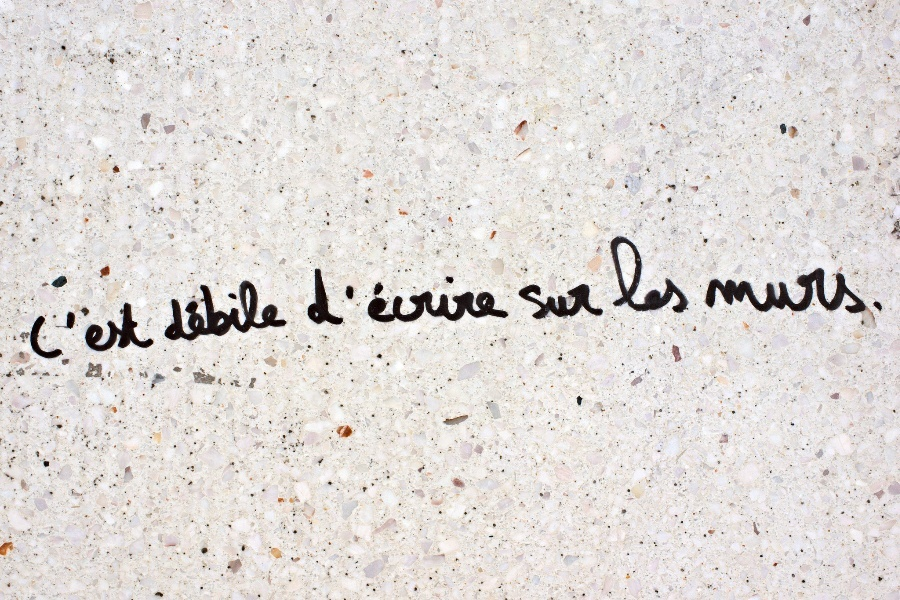text: (609, 234, 624, 313), (625, 234, 640, 313), (641, 234, 656, 313), (657, 234, 672, 313), (673, 234, 688, 313), (177, 277, 192, 345), (193, 277, 208, 345), (209, 277, 224, 345), (225, 277, 240, 345), (241, 277, 256, 345), (257, 277, 272, 345), (273, 277, 288, 345), (321, 262, 336, 328), (337, 262, 352, 328), (353, 262, 368, 328), (369, 262, 384, 328), (385, 262, 400, 328), (401, 262, 416, 328), (417, 262, 432, 328), (433, 262, 448, 328), (449, 262, 464, 328), (465, 262, 480, 328), (481, 262, 496, 328), (33, 301, 48, 363), (49, 301, 64, 363), (65, 301, 80, 363), (81, 301, 96, 363), (97, 301, 112, 363), (113, 301, 128, 363), (129, 301, 144, 363), (497, 262, 511, 328), (164, 277, 176, 345), (309, 262, 320, 328), (705, 267, 720, 314), (721, 267, 736, 314), (737, 267, 752, 314), (753, 267, 768, 314), (769, 267, 784, 314), (785, 267, 800, 314), (801, 267, 816, 314), (817, 267, 832, 314), (833, 267, 848, 314), (849, 267, 864, 314), (865, 267, 880, 314), (529, 281, 544, 325), (545, 281, 560, 325), (561, 281, 576, 325), (577, 281, 592, 325), (145, 301, 155, 363), (593, 281, 606, 325), (516, 281, 528, 325), (602, 234, 608, 313), (689, 234, 692, 313), (881, 267, 886, 314), (29, 301, 32, 363)
